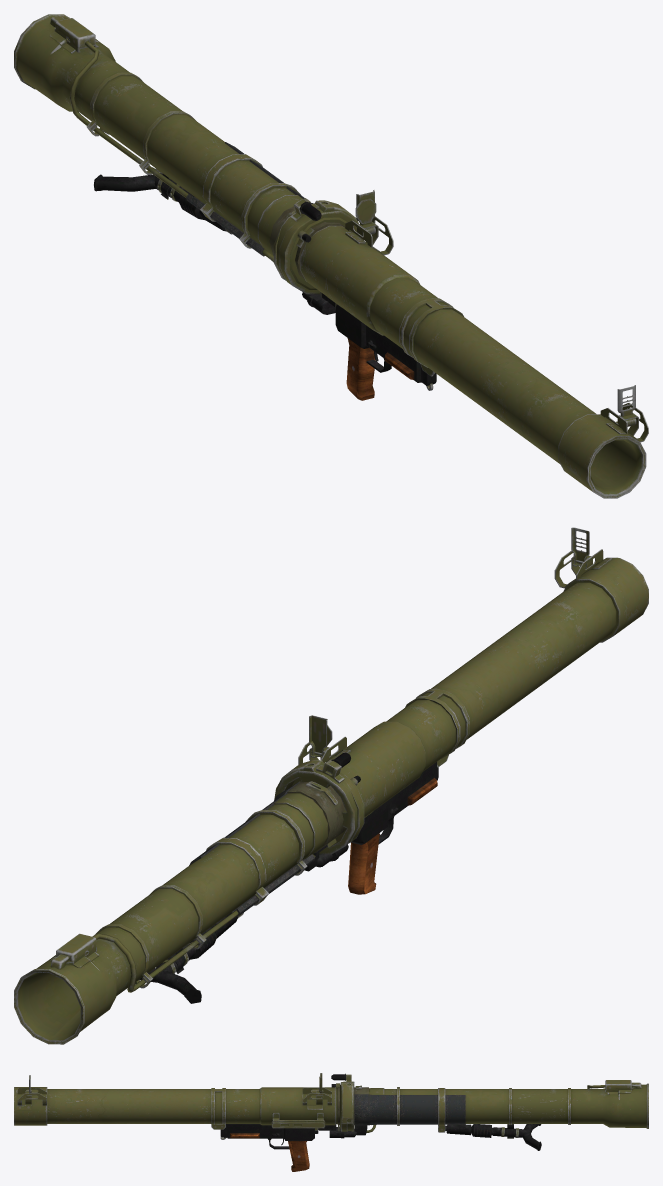
The model's file is rpg29.glb.
3 renders of one model, top to bottom at view 1: azimuth 30°, elevation 25°; view 2: azimuth 150°, elevation 25°; view 3: azimuth 270°, elevation 25°, orthographic. The views are drawn at different scales.
Parts seen in each view (by area): view 1: RPG29; view 2: RPG29; view 3: RPG29.
Part boxes in pixels (x1=…): RPG29: x1=14, y1=14, x2=648, y2=498; RPG29: x1=14, y1=527, x2=648, y2=1044; RPG29: x1=14, y1=1073, x2=648, y2=1171.
Size of the model in its own units: 0.1896 by 0.308 by 1.75.
1 material, 1 textured.
